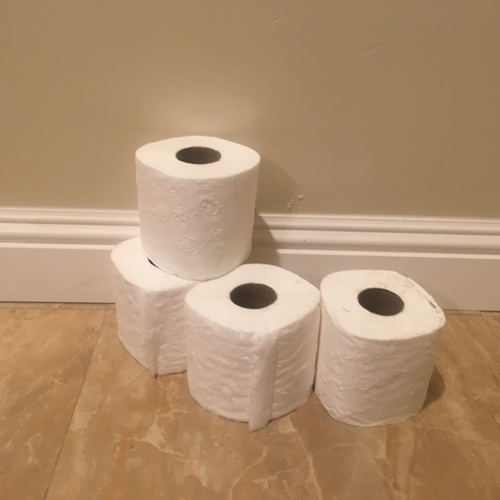roll: (183, 262, 322, 430), (313, 268, 447, 429), (133, 133, 261, 282), (109, 233, 198, 377)
